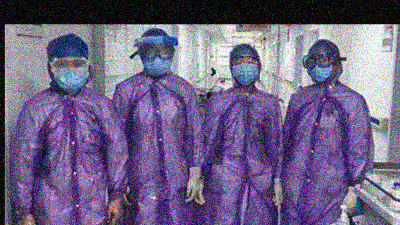with_mask: (49, 57, 89, 92), (139, 44, 173, 76), (304, 54, 334, 82), (231, 56, 258, 85)
